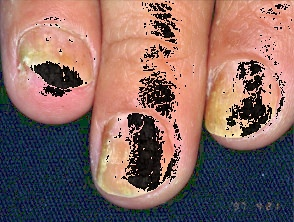Nail_psoriasis: (4, 15, 99, 110), (93, 105, 185, 200), (200, 50, 288, 143)
